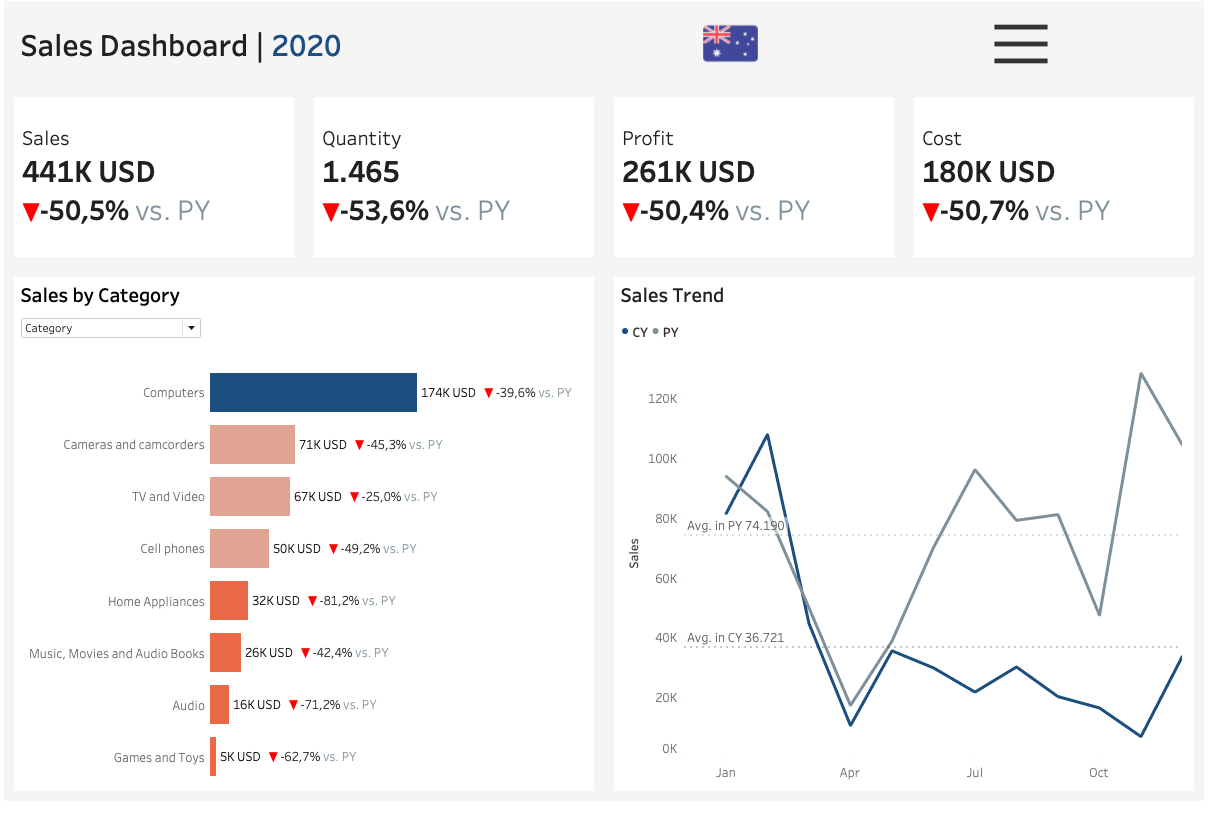

The dashboard page shown, as its layout file describes it:
{"tool":"tableau","page":{"name":"Sales Dashboard","canvas":[1500,800],"ordinal":2},"visuals":[{"type":"text","box":[1247,8,245,90]},{"type":"text","box":[10,10,460,66]},{"type":"worksheet","title":"Country flag","mark":"Shape","box":[470,10,514,66]},{"type":"blank","box":[984,10,103,66]},{"type":"worksheet","title":"KPI Sales","mark":"Text","box":[0,86,310,180]},{"type":"worksheet","title":"KPI Quantity","mark":"Text","box":[310,86,310,180]},{"type":"worksheet","title":"KPI Profit","mark":"Text","box":[620,86,310,180]},{"type":"worksheet","title":"KPI Cost","mark":"Text","box":[930,86,309,180]},{"type":"dashboard-object","box":[1247,98,245,52]},{"type":"dashboard-object","box":[1247,150,245,52]},{"type":"dashboard-object","box":[1247,202,245,52]},{"type":"text","box":[10,276,600,34]},{"type":"text","box":[630,276,599,34]},{"type":"parameter","param":"[Parameters].[Parameter 1]","box":[10,310,194,47]},{"type":"blank","box":[204,310,196,47]},{"type":"parameter","param":"[Parameters].[Parameter 4]","box":[400,310,210,47]},{"type":"text","box":[630,310,599,37]},{"type":"blank","box":[1243,327,253,109]},{"type":"worksheet","title":"KPI Trend","mark":"Automatic","rows":["Calculation_202662033251426346","Selected KPI CY (copy)_1757248330608455680"],"cols":["Order Date"],"box":[630,347,599,443]},{"type":"worksheet","title":"KPI by Dimension","mark":"Bar","rows":["Calculation_719731564687335426"],"cols":["Calculation_202662033251426346"],"box":[10,357,600,433]},{"type":"text","box":[1243,436,253,51]},{"type":"blank","box":[1243,487,253,65]},{"type":"filter","title":"KPI Sales","param":"[federated.1knu0h80e5bia111iriy70sjelb3].[none:Country:nk]","box":[1243,552,253,40]},{"type":"parameter","param":"[Parameters].[Parameter 2]","box":[1243,592,253,36]},{"type":"parameter","param":"[Parameters].[Parameter 3]","box":[1243,628,253,36]},{"type":"blank","box":[1243,664,253,132]}]}

Visuals, with their boxes on the page's 1500x800 design canvas (x1, y1, x2, y2). These are canvas units, not pixel positions in the 1224x817 screenshot, which may show the page scaled, cropped or inside an application window:
text: [1247, 8, 1492, 98]
text: [10, 10, 470, 76]
"Country flag" worksheet (Shape marks): [470, 10, 984, 76]
blank: [984, 10, 1087, 76]
"KPI Sales" worksheet (Text marks): [0, 86, 310, 266]
"KPI Quantity" worksheet (Text marks): [310, 86, 620, 266]
"KPI Profit" worksheet (Text marks): [620, 86, 930, 266]
"KPI Cost" worksheet (Text marks): [930, 86, 1239, 266]
dashboard-object: [1247, 98, 1492, 150]
dashboard-object: [1247, 150, 1492, 202]
dashboard-object: [1247, 202, 1492, 254]
text: [10, 276, 610, 310]
text: [630, 276, 1229, 310]
parameter: [10, 310, 204, 357]
blank: [204, 310, 400, 357]
parameter: [400, 310, 610, 357]
text: [630, 310, 1229, 347]
blank: [1243, 327, 1496, 436]
"KPI Trend" worksheet: [630, 347, 1229, 790]
"KPI by Dimension" worksheet (Bar marks): [10, 357, 610, 790]
text: [1243, 436, 1496, 487]
blank: [1243, 487, 1496, 552]
"KPI Sales" filter: [1243, 552, 1496, 592]
parameter: [1243, 592, 1496, 628]
parameter: [1243, 628, 1496, 664]
blank: [1243, 664, 1496, 796]
